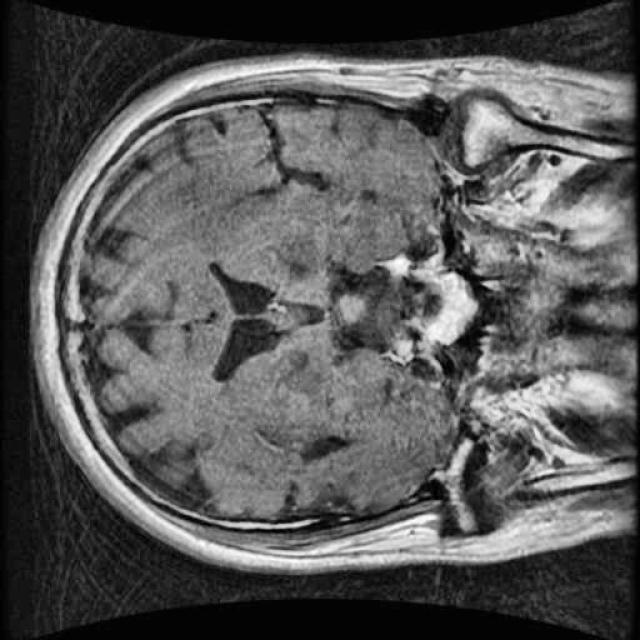Tumor: (314, 256, 484, 363)
